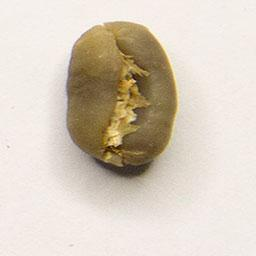peaberry: (63, 17, 179, 170)
